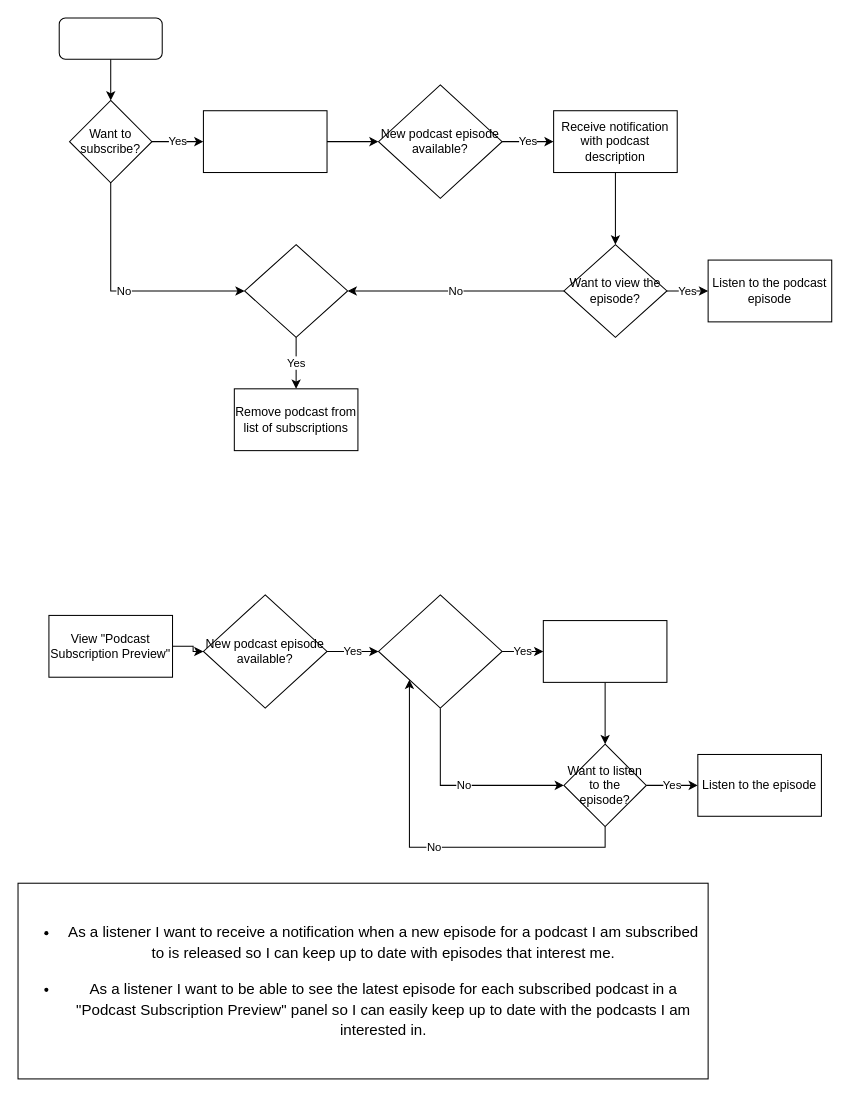
Some shapes in this 850 by 1097 pixel diagram are drawn without their labels. The shapes that lost their labels are listed below. From the top down, each one's centre as x and y in pixels, then its label:
At pixel 110 38: "Viewed a podcast page".
At pixel 264 141: "Add podcast to subscription list".
At pixel 296 290: "Want to unsubscribe from the podcast?".
At pixel 439 651: "Want to see more details about an episode?".
At pixel 604 651: "View episode description".
